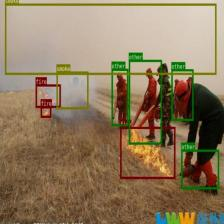fire: (120, 126, 175, 178), (36, 84, 60, 107), (41, 106, 51, 117)
smoke: (5, 4, 216, 74), (56, 71, 88, 109)
